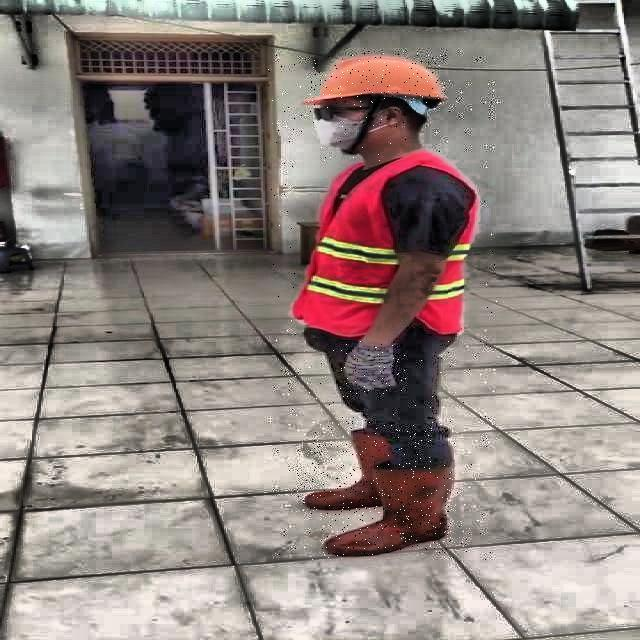safety_helmet: (307, 53, 448, 105)
safety_jacket: (296, 162, 484, 340)
